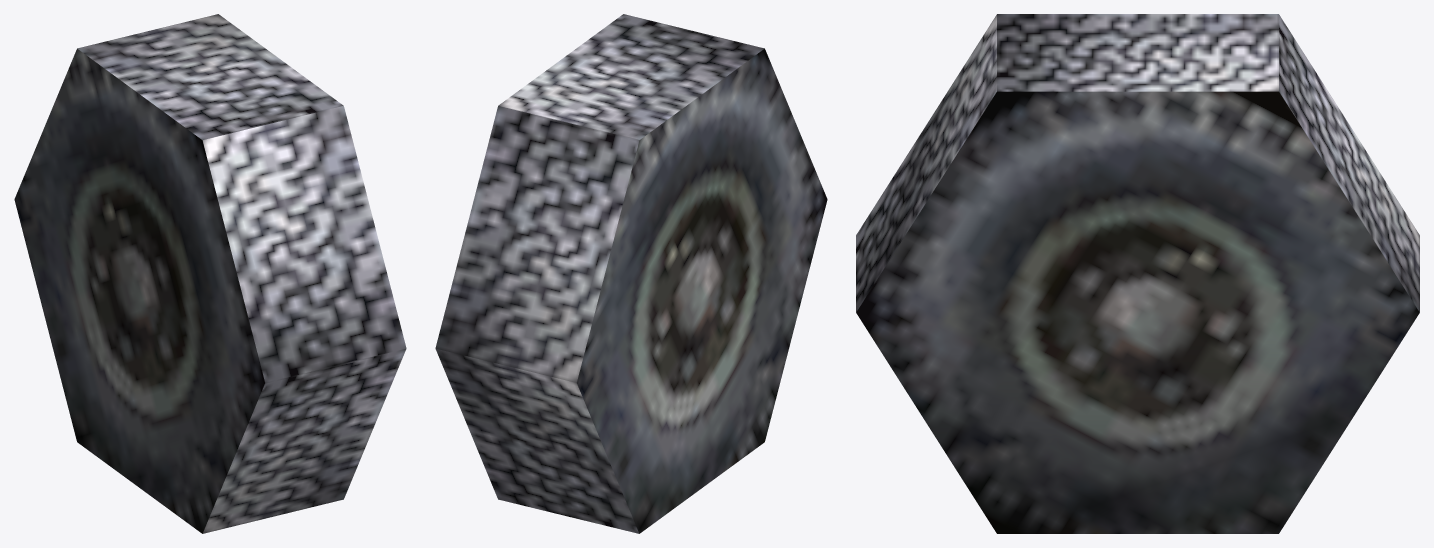
Rendered from GLA - Ground Vehicles - = - Damage State 2 - UVTechVan_d2.glb.
The picture shows the model from 3 angles, left to right: view 1: azimuth 30°, elevation 25°; view 2: azimuth 150°, elevation 25°; view 3: azimuth 270°, elevation 25°; orthographic projection. The views are drawn at different scales.
Parts seen in each view (by area): view 1: UVTECHVAN_D2; view 2: UVTECHVAN_D2; view 3: UVTECHVAN_D2.
Boxes of the visible parts, <box> form: UVTECHVAN_D2: <box>14,14,406,533</box>; UVTECHVAN_D2: <box>435,14,827,533</box>; UVTECHVAN_D2: <box>856,14,1419,533</box>.
Bounding box in the file's own units: 1.56 × 4.15 × 4.79.
1 material, 1 textured.
